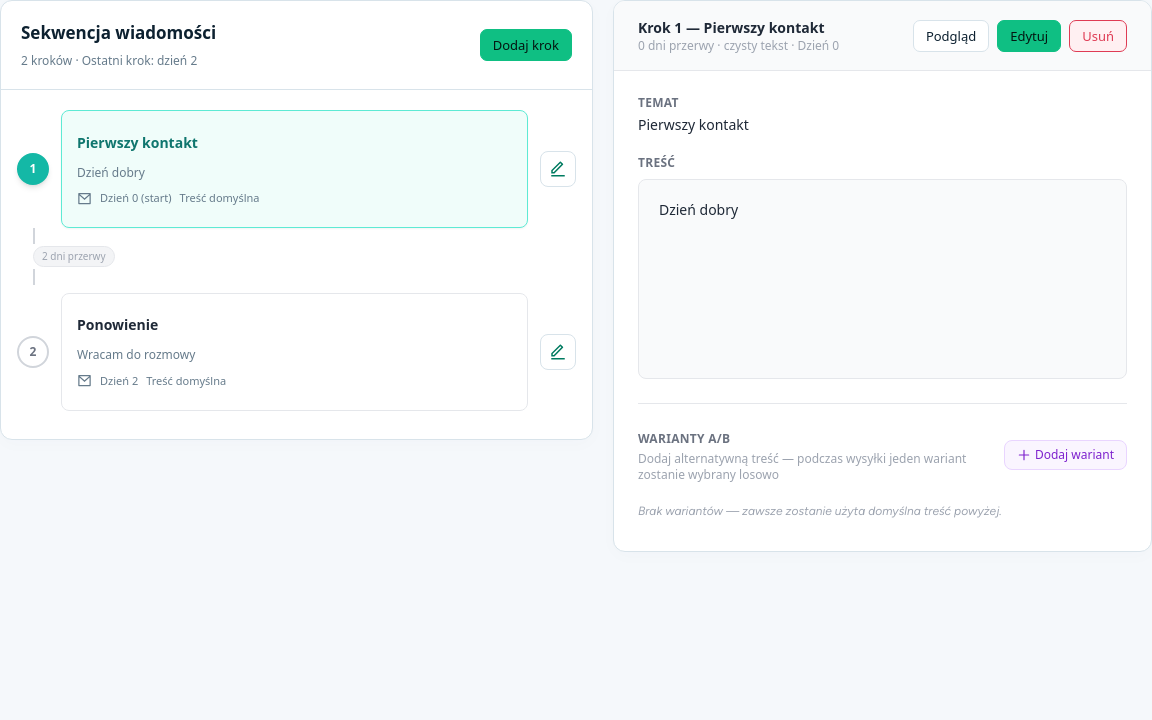
Test: opens the requested step only after explicit discard
The width and height of the screenshot is (1152, 720).
Click the button named "Edytuj krok 1": x=558, y=169 [540,151,576,187]
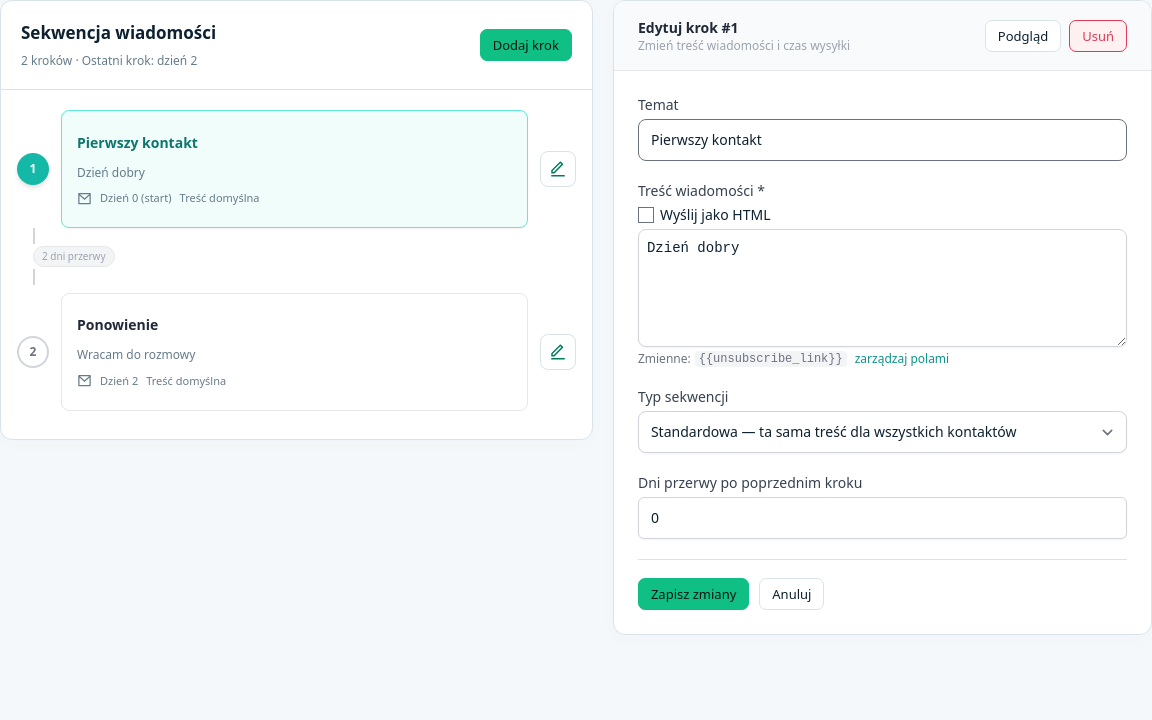
Replace the text in the field named "Temat wiadomości" with "Roboczy": x=882, y=140 [638,119,1127,161]
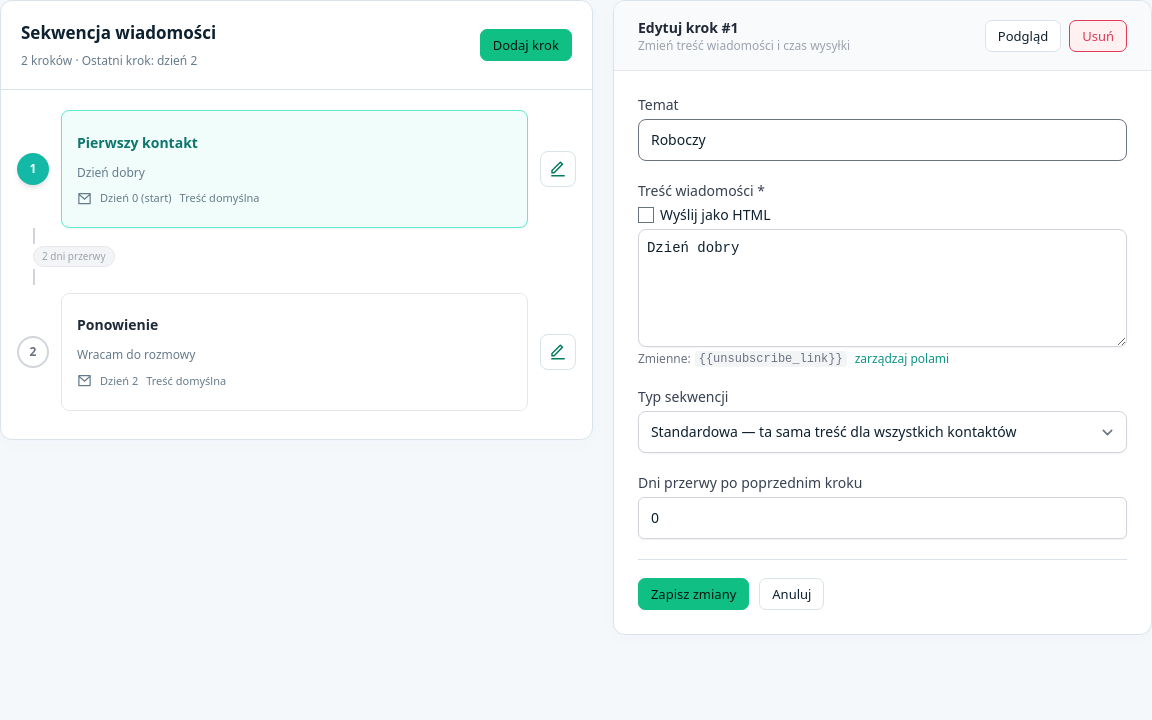
Click the button named "Edytuj krok 2": x=558, y=352 [540,334,576,370]
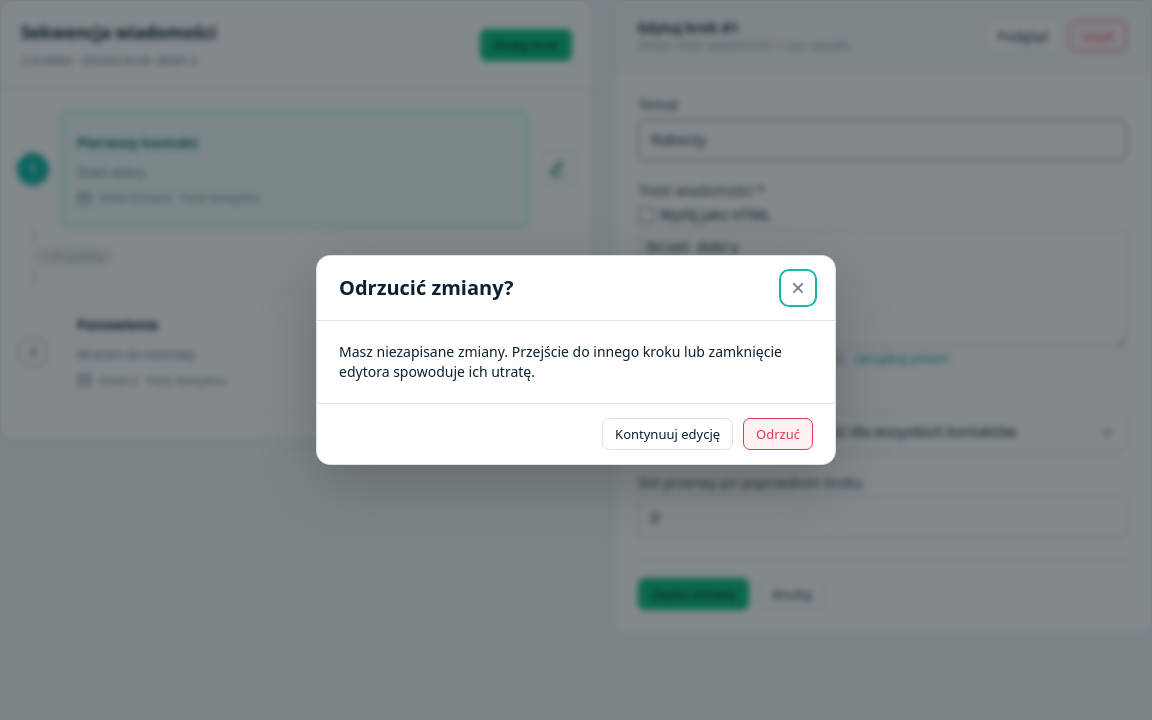
Click the button "Odrzuć": x=778, y=434 [743,418,813,450]
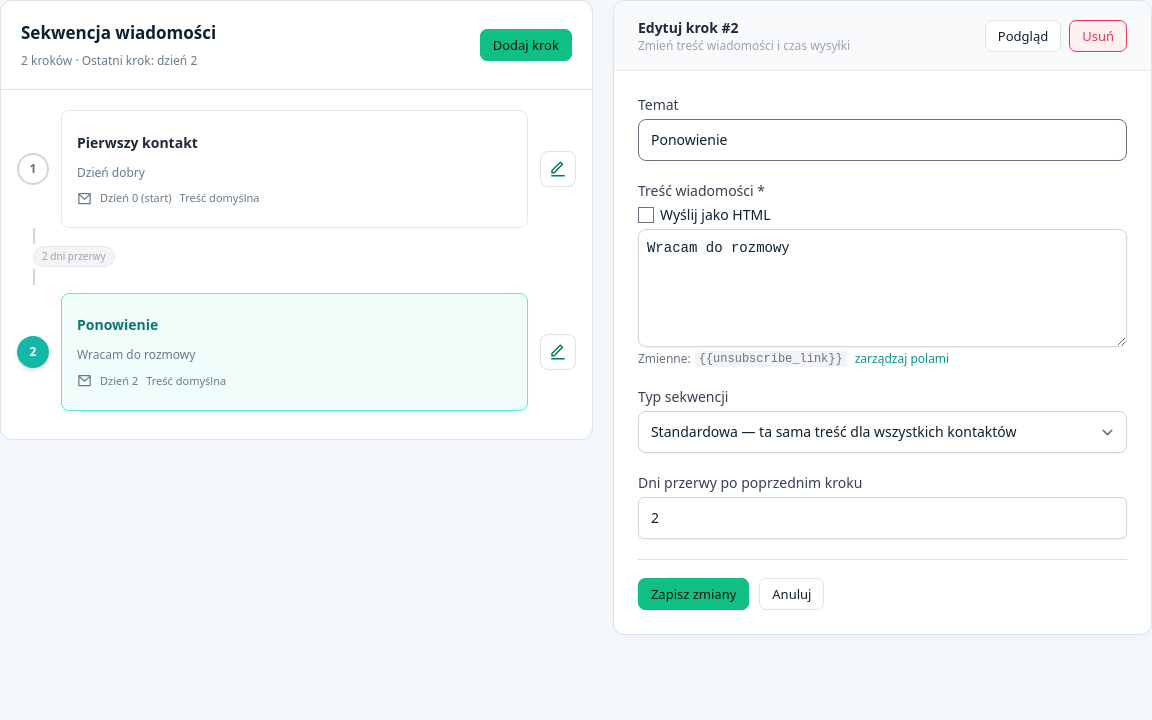
Check: the field named "Temat wiadomości" holds "Ponowienie", box [638,119,1127,161]
